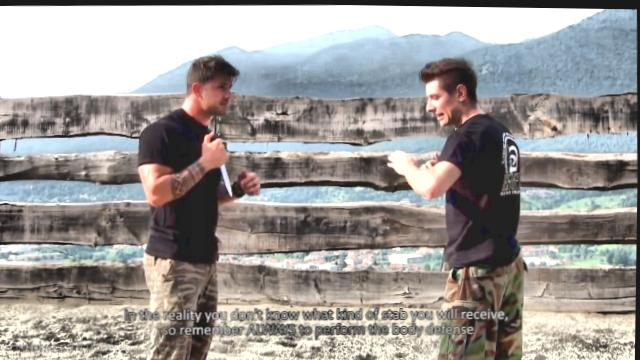knife: (202, 129, 236, 199)
